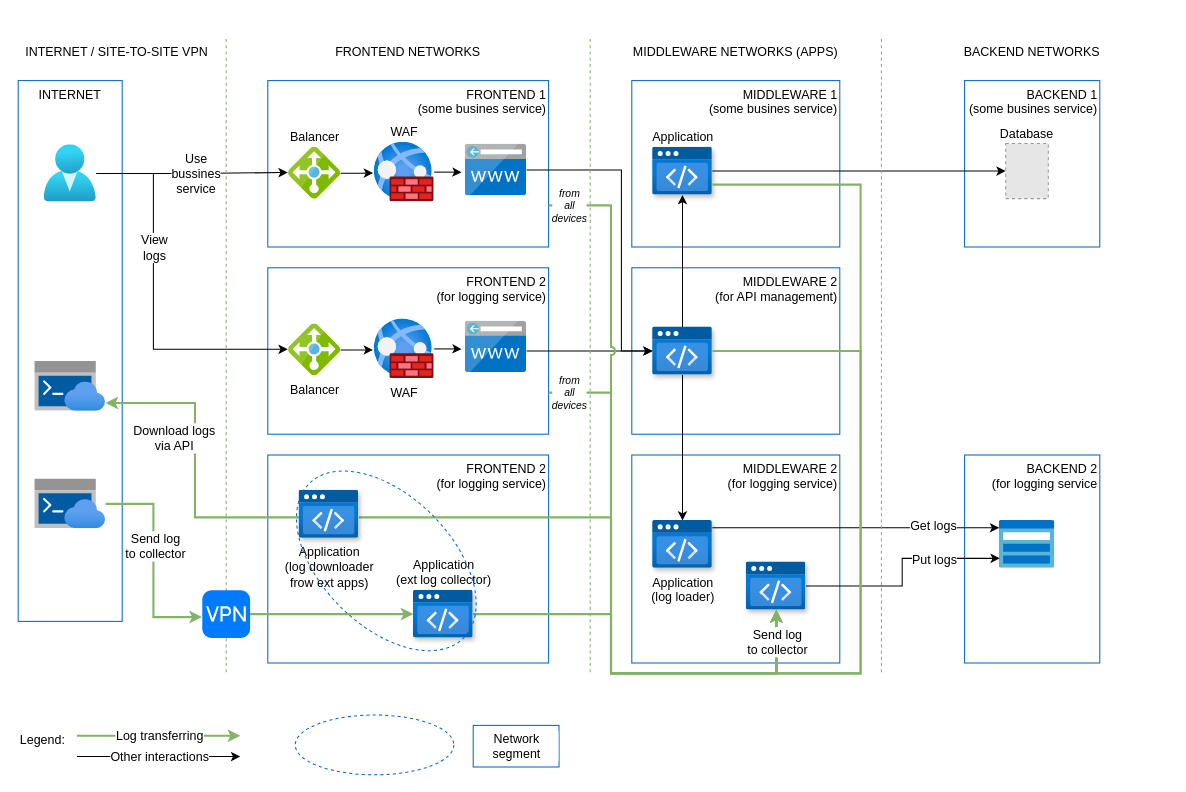
Some shapes in this 1186 by 792 pixel diagram are drawn without their labels. Grey dashed boxes stand in for pictures. Here are the shapes that lost their labels. From the top down, the centre of each, then its label:
At [70,173]: "Client".
At [495,169]: "Web server".
At [495,346]: "Web server for view logs (log viewer)".
At [683,352]: "API Management".
At [69,386]: "Cloud application (SaaS)".
At [69,503]: "Application in IaaS".
At [1026,544]: "log storage".
At [777,587]: "Application (log collector)".
At [374,744]: "can be one application".
